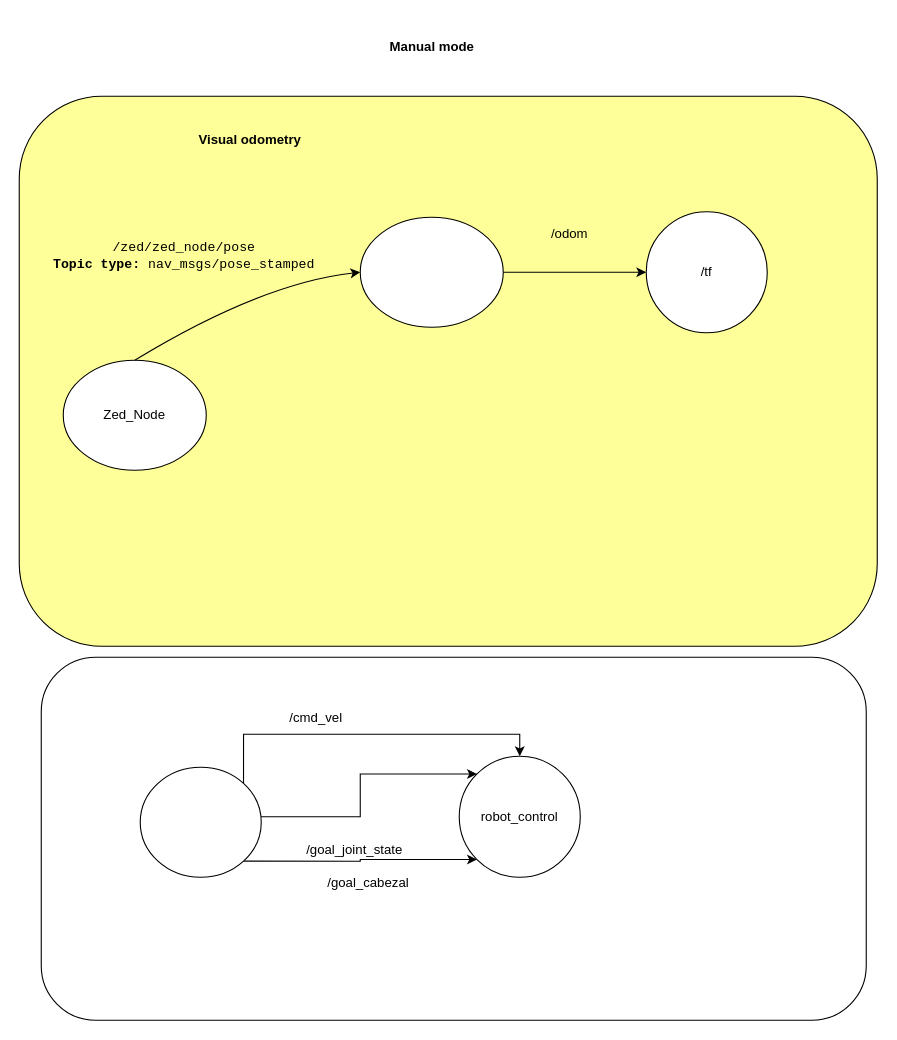
Some shapes in this 897 by 1040 pixel diagram are drawn without their labels. The shapes that lost their labels are listed below. From the top down, each one's centre as x and y in pixels, then its label:
At (431,271): "Pose_node".
At (200,821): "User".
